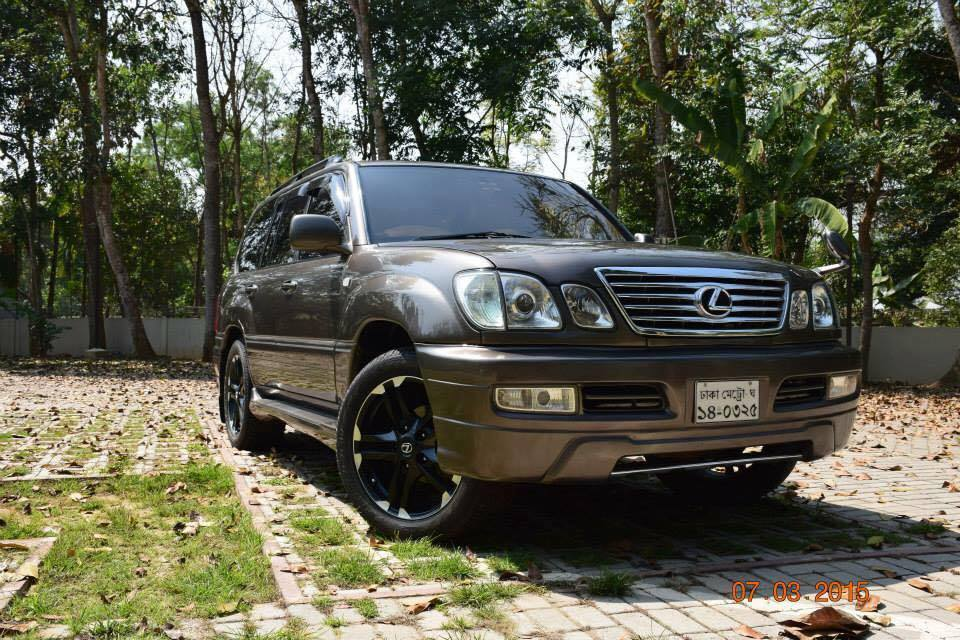registration_plate: (693, 379, 760, 424)
